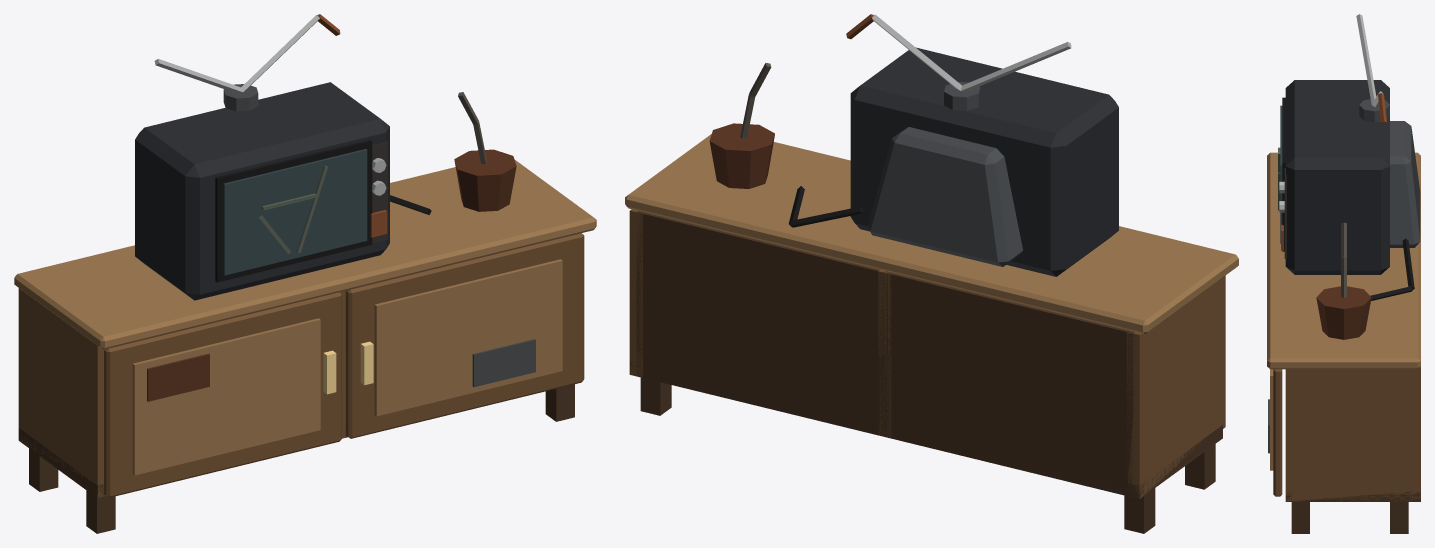
Rendered from furn_tv_unit.fbx.
3 renders of one model, left to right at view 1: azimuth 30°, elevation 25°; view 2: azimuth 150°, elevation 25°; view 3: azimuth 270°, elevation 25°, orthographic. The views are drawn at different scales.
Parts seen in each view (by area): view 1: furn_tv_unit, Door_R, Door_L; view 2: furn_tv_unit; view 3: furn_tv_unit, Door_R.
Part boxes in pixels (x1,y1,x2,y2): furn_tv_unit: (14, 14, 596, 533); Door_R: (346, 233, 584, 438); Door_L: (104, 292, 341, 497); furn_tv_unit: (625, 14, 1238, 533); furn_tv_unit: (1267, 14, 1420, 533); Door_R: (1268, 369, 1282, 496).
Bounding box in the file's own units: 1.6 × 1.3 × 0.5.
